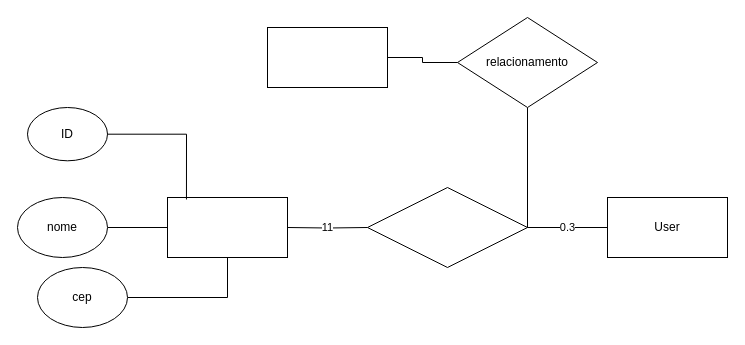
Some shapes in this 745 by 345 pixel diagram are drawn without their labels. Here are the shapes that lost their labels. From the top down, the centre of each, then its label:
the point at 327,57: item
the point at 227,227: Emprestimo
the point at 447,227: Faz
